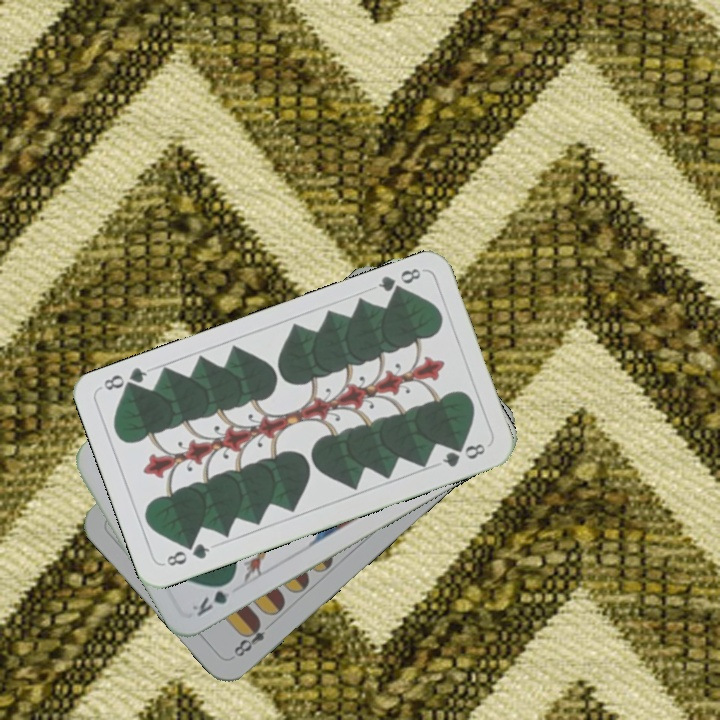E8: (230, 616, 268, 660)
G8: (374, 264, 424, 299), (162, 539, 213, 569)
GK: (188, 575, 237, 619)
